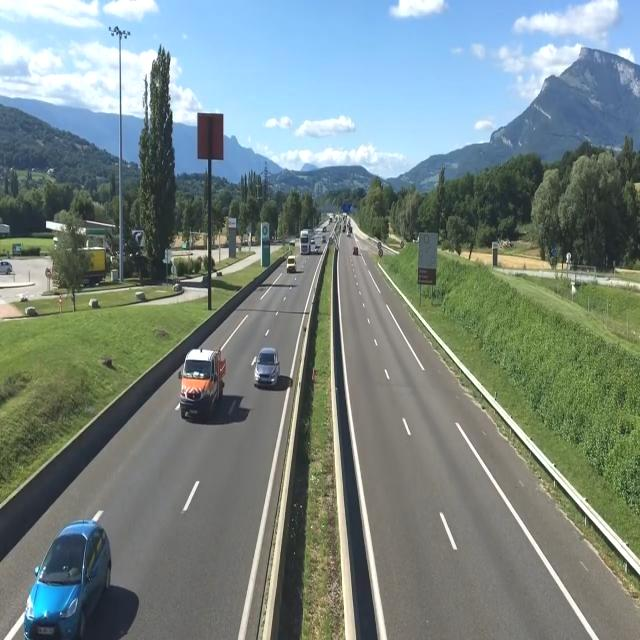Bus: (295, 225, 315, 257)
Car: (5, 508, 138, 640), (246, 339, 296, 394), (278, 253, 302, 276), (349, 242, 366, 261)
Truck: (171, 340, 236, 427)
